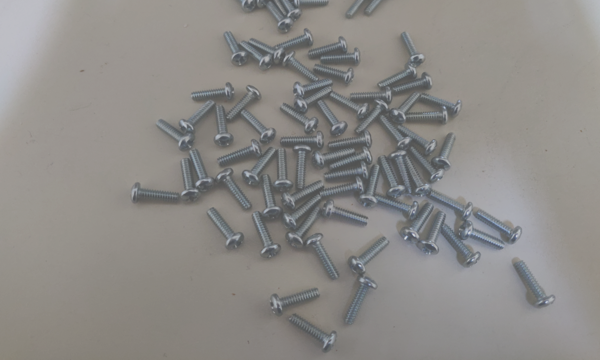shortscrew: (515, 260, 556, 309), (289, 313, 337, 353), (442, 225, 482, 269), (344, 275, 378, 326), (476, 211, 524, 246), (305, 233, 340, 281), (348, 237, 390, 276), (207, 208, 244, 251), (286, 207, 323, 249), (216, 168, 252, 211), (252, 212, 282, 260), (270, 288, 320, 316), (400, 203, 434, 244), (283, 195, 322, 230), (458, 221, 505, 250), (243, 146, 277, 186), (155, 119, 196, 152), (409, 147, 446, 183), (239, 109, 277, 144), (323, 199, 370, 227), (226, 86, 262, 122), (282, 180, 325, 210), (375, 194, 421, 222), (418, 212, 446, 257), (179, 100, 215, 135), (404, 155, 433, 197), (189, 148, 216, 193), (379, 155, 406, 200), (388, 150, 414, 196), (430, 193, 474, 220), (380, 114, 413, 150), (356, 99, 389, 135), (280, 103, 318, 134), (217, 140, 262, 166), (419, 92, 462, 119), (283, 52, 319, 84), (397, 126, 438, 154), (377, 61, 418, 89), (330, 92, 370, 120), (329, 146, 372, 172), (248, 38, 287, 66), (295, 86, 334, 114), (319, 176, 364, 200), (318, 100, 348, 136), (131, 183, 179, 205), (312, 147, 356, 171), (240, 41, 275, 71), (359, 164, 382, 209), (262, 174, 283, 221), (308, 36, 349, 60), (432, 132, 457, 171), (180, 159, 202, 203), (273, 148, 295, 192), (224, 30, 249, 66), (324, 161, 369, 181), (313, 65, 355, 86), (214, 105, 235, 147), (328, 130, 372, 150), (293, 144, 312, 189), (392, 73, 434, 93), (405, 106, 449, 125), (267, 1, 293, 33), (402, 32, 425, 68), (190, 83, 235, 101), (281, 131, 325, 149), (321, 48, 361, 67), (293, 78, 333, 97), (351, 86, 392, 102), (346, 0, 375, 19), (365, 0, 394, 16), (227, 0, 256, 13), (237, 0, 271, 9), (291, 0, 329, 8)
